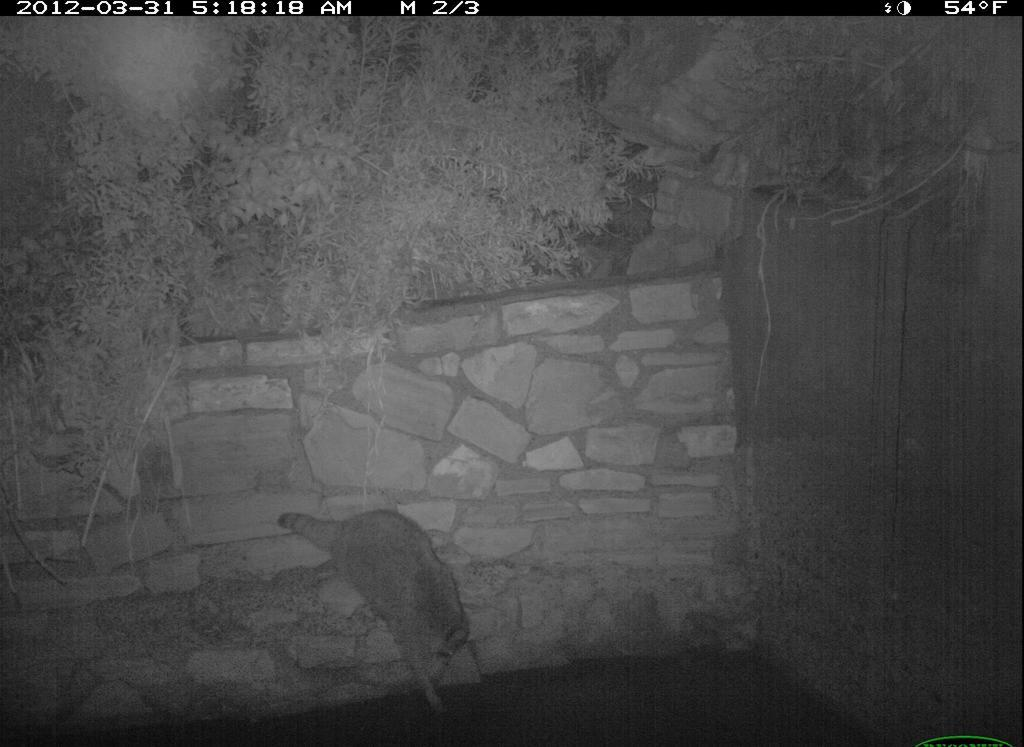raccoon: (273, 496, 488, 708)
